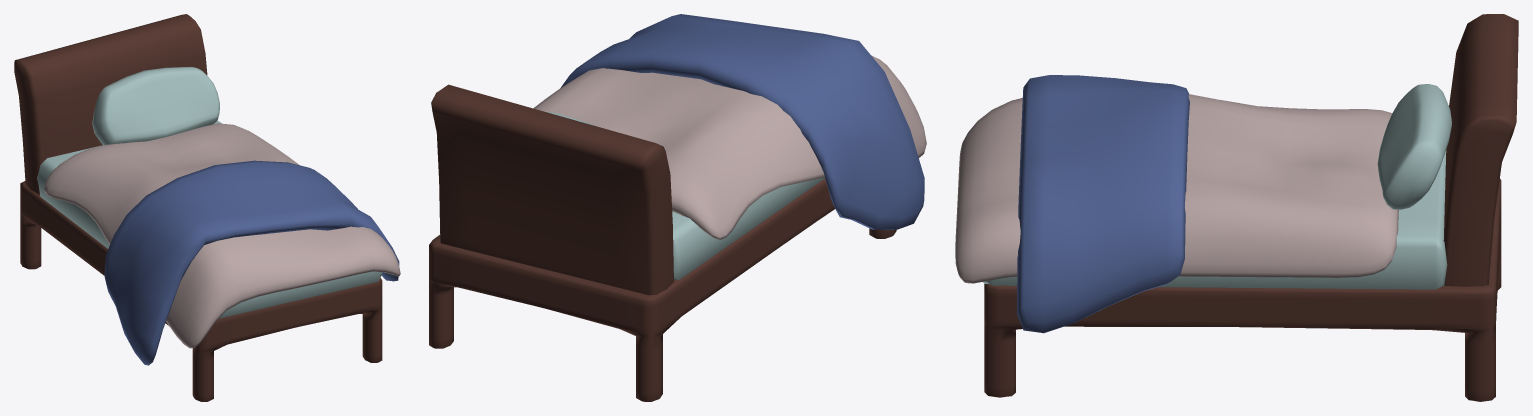
File: bed_2.fbx
The picture shows the model from 3 angles, left to right: view 1: azimuth 30°, elevation 25°; view 2: azimuth 150°, elevation 25°; view 3: azimuth 270°, elevation 25°; orthographic projection. The views are drawn at different scales.
Visible parts, largest first — view 1: polySurface33, bed3_polySurface38, polySurface34, polySurface36, polySurface32; view 2: bed3_polySurface38, polySurface34, polySurface33, polySurface32; view 3: polySurface33, polySurface34, bed3_polySurface38, polySurface32, polySurface36.
Boxes of the visible parts, x1,y1,x2,y2 form: polySurface33: (44,123,400,348); bed3_polySurface38: (14,14,382,401); polySurface34: (104,160,399,365); polySurface36: (92,66,219,145); polySurface32: (37,120,382,318); bed3_polySurface38: (429,84,896,401); polySurface34: (561,14,924,229); polySurface33: (533,55,926,239); polySurface32: (672,177,824,280); polySurface33: (955,94,1398,283); polySurface34: (1017,75,1189,333); bed3_polySurface38: (984,14,1518,401); polySurface32: (983,150,1447,289); polySurface36: (1377,84,1451,209).
Bounding box in the file's own units: 20.2 × 16.09 × 29.35.
